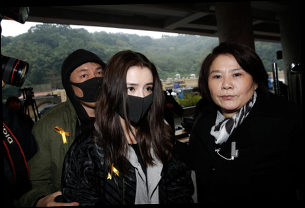with_mask: (117, 81, 157, 127), (70, 65, 107, 111)
without_mask: (206, 66, 257, 112)
